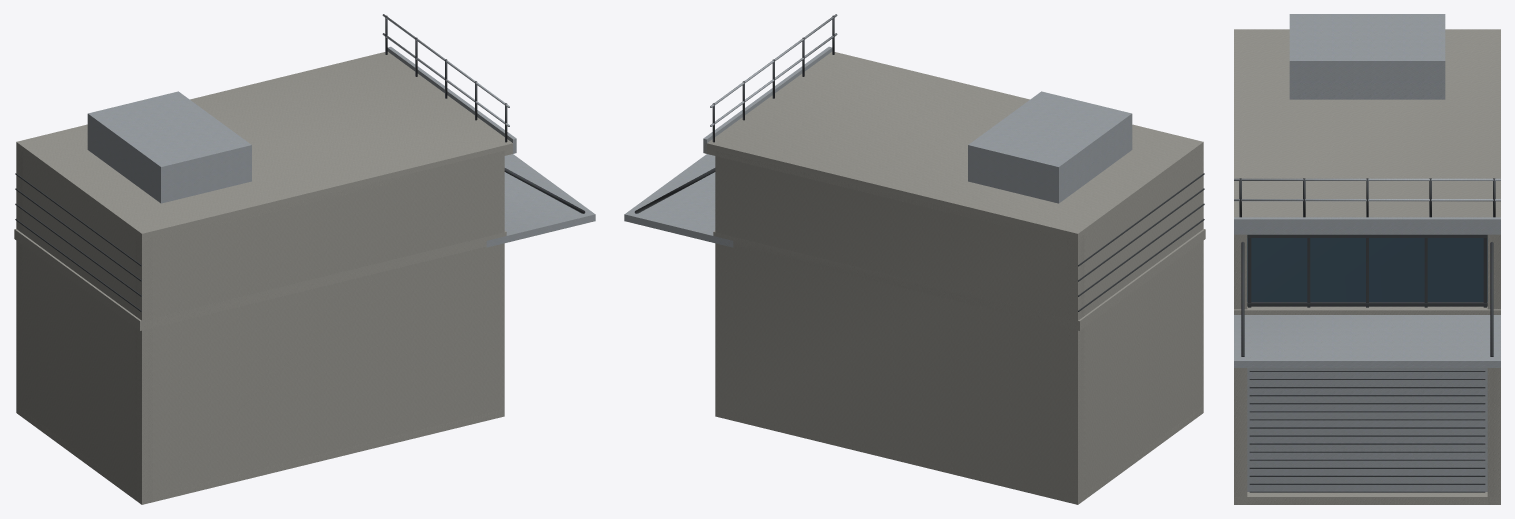
Rendered from hill-pit-garage_mobile.glb.
The picture shows the model from 3 angles, left to right: view 1: azimuth 30°, elevation 25°; view 2: azimuth 150°, elevation 25°; view 3: azimuth 270°, elevation 25°; orthographic projection. The views are drawn at different scales.
Parts seen in each view (by area): view 1: concrete, galvanised, dark-steel; view 2: concrete, galvanised, dark-steel; view 3: galvanised, concrete, glazing, dark-steel.
Boxes of the visible parts, <box> form: concrete: <box>14,52,512,504</box>; galvanised: <box>87,14,595,247</box>; dark-steel: <box>15,15,585,311</box>; concrete: <box>704,52,1205,504</box>; galvanised: <box>624,14,1132,247</box>; dark-steel: <box>634,15,1204,311</box>; galvanised: <box>1234,14,1500,491</box>; concrete: <box>1234,29,1500,504</box>; glazing: <box>1247,238,1487,301</box>; dark-steel: <box>1239,178,1495,492</box>.
Bounding box in the file's own units: 12.55 × 8.15 × 6.
Materials: 6 (4 with a texture image).
